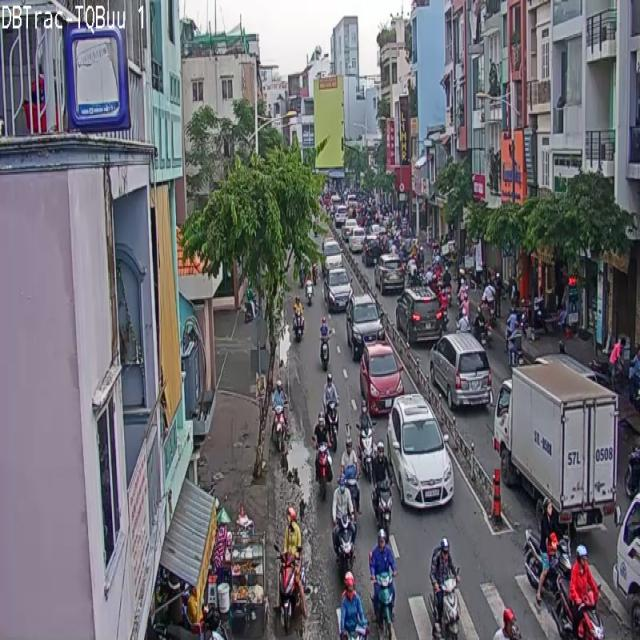car: (369, 530, 396, 637), (430, 536, 458, 639), (278, 550, 306, 633), (332, 478, 356, 573), (316, 425, 331, 478), (324, 374, 338, 411)
traffic-light: (387, 397, 453, 505), (429, 333, 491, 410), (360, 341, 403, 415), (346, 294, 384, 360), (397, 287, 441, 343)
